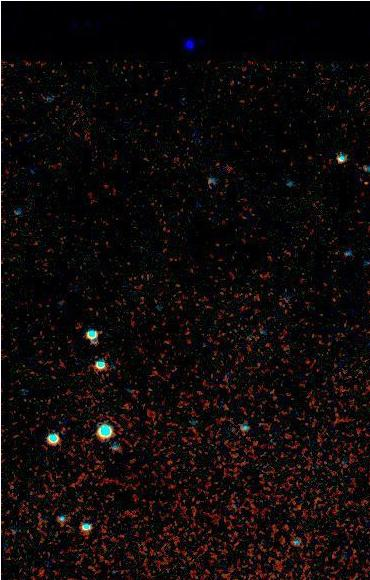star: (344, 169, 370, 199)
